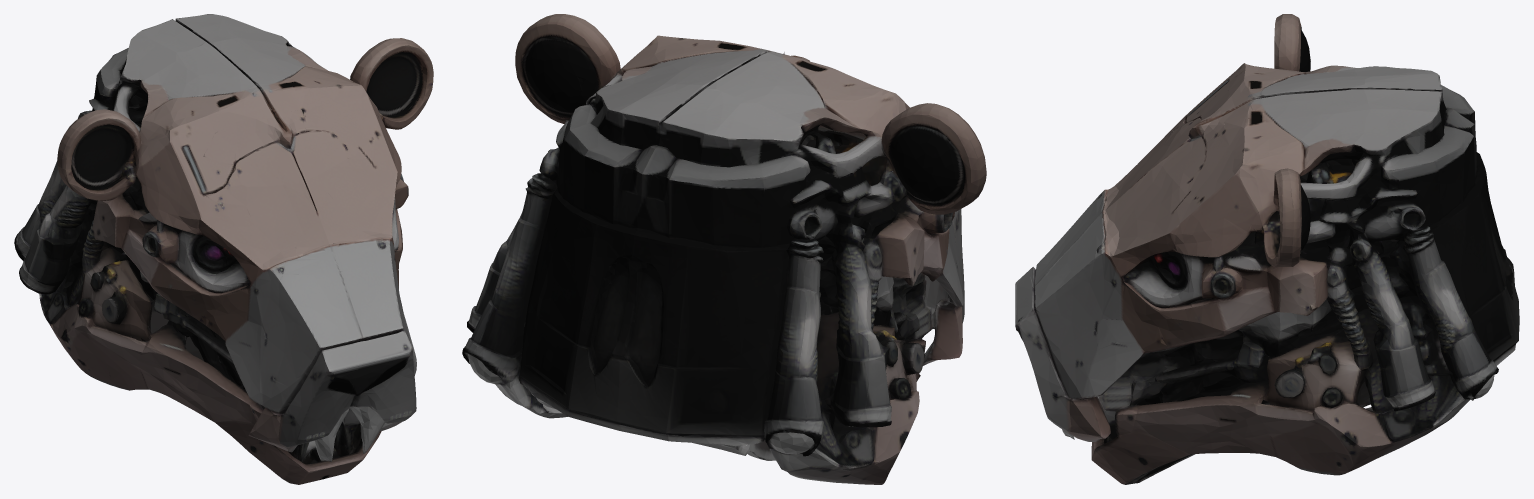
The picture shows the model from 3 angles, left to right: view 1: azimuth 30°, elevation 25°; view 2: azimuth 150°, elevation 25°; view 3: azimuth 270°, elevation 25°; orthographic projection. The views are drawn at different scales.
Parts seen in each view (by area): view 1: world; view 2: world; view 3: world.
Boxes of the visible parts, x1=… form: world: x1=14, y1=14, x2=433, y2=484; world: x1=462, y1=14, x2=986, y2=484; world: x1=1015, y1=14, x2=1519, y2=484.
Bounding box in the file's own units: 0.9192 × 0.8368 × 1.
Materials: 1 (1 with a texture image).
